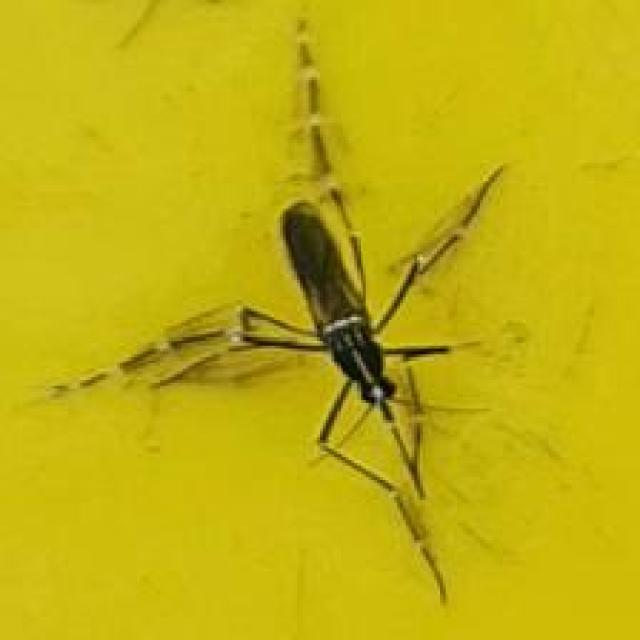Aedes albopictus: (34, 14, 529, 606)
